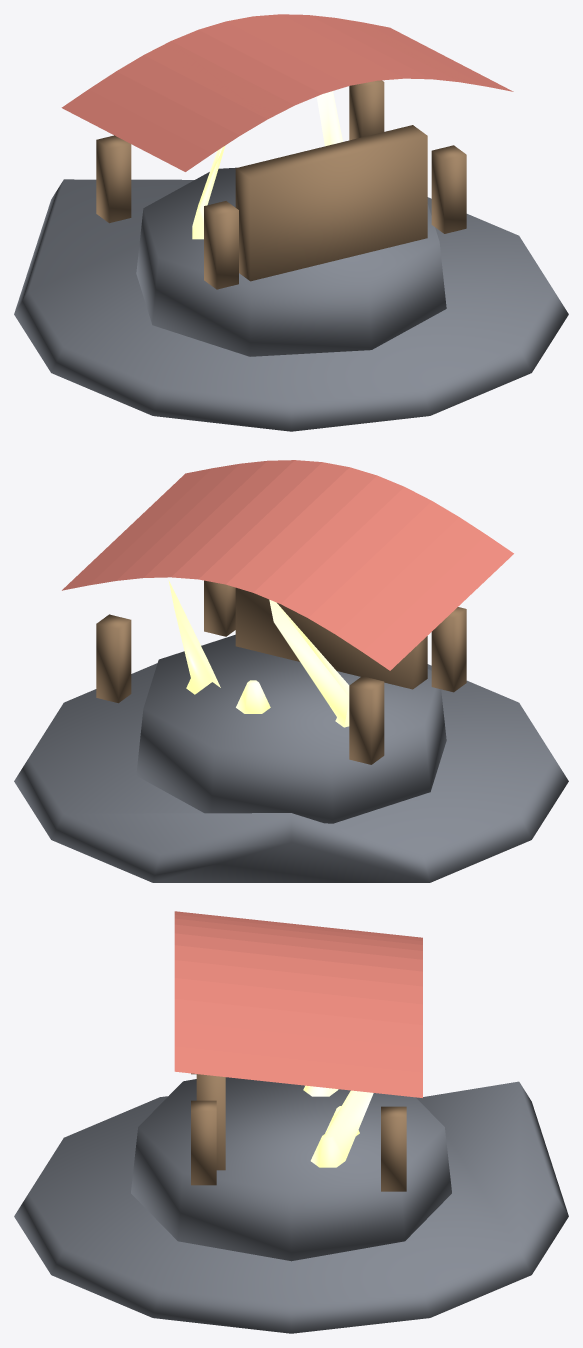
The model's file is Station_Mercado_Combined.fbx.
The picture shows the model from 3 angles, top to bottom: view 1: azimuth 30°, elevation 25°; view 2: azimuth 150°, elevation 25°; view 3: azimuth 270°, elevation 25°; orthographic projection.
Parts seen in each view (by area): view 1: Station_Mercado_Combined; view 2: Station_Mercado_Combined; view 3: Station_Mercado_Combined.
Part boxes in pixels (<box>): Station_Mercado_Combined: <box>14,14,568,431</box>; Station_Mercado_Combined: <box>14,460,568,882</box>; Station_Mercado_Combined: <box>14,911,568,1333</box>.
Size of the model in its own units: 7.6 by 4.1 by 7.6.
